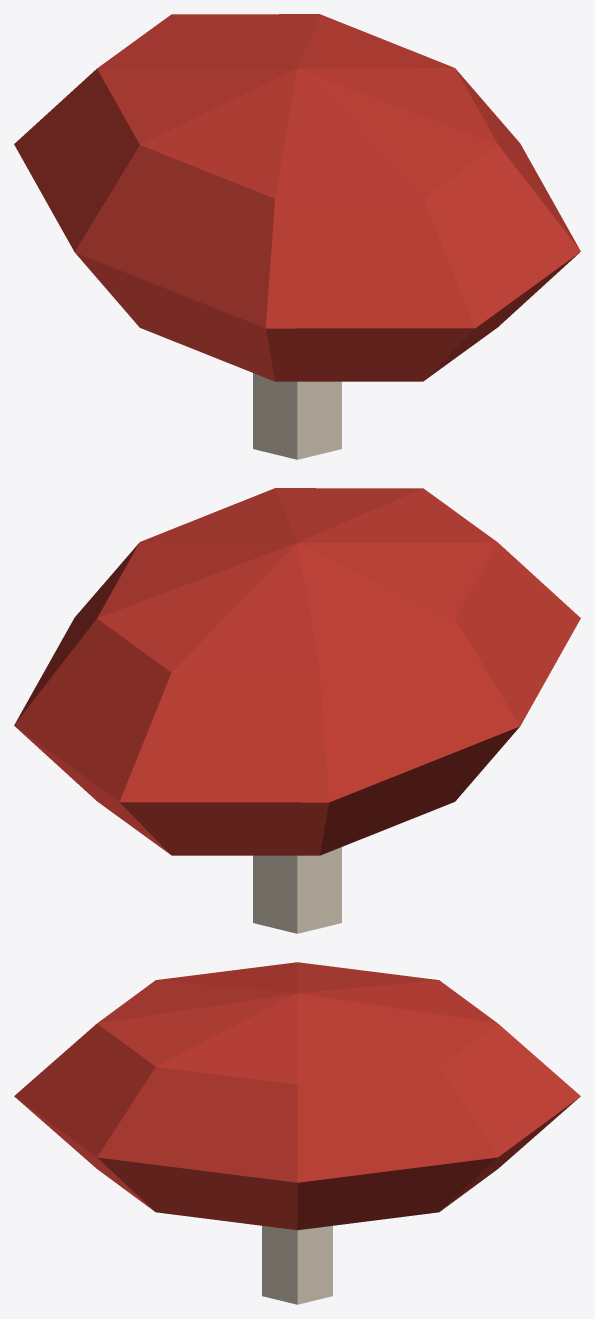
File: mushroom.glb
The picture shows the model from 3 angles, top to bottom: view 1: azimuth 30°, elevation 25°; view 2: azimuth 150°, elevation 25°; view 3: azimuth 270°, elevation 25°; orthographic projection. The views are drawn at different scales.
Parts seen in each view (by area): view 1: mushroom; view 2: mushroom; view 3: mushroom.
Part boxes in pixels (x1=…): mushroom: x1=14, y1=14, x2=580, y2=459; mushroom: x1=14, y1=488, x2=580, y2=933; mushroom: x1=14, y1=962, x2=580, y2=1304.
Size of the model in its own units: 0.563 by 0.446 by 0.779.
